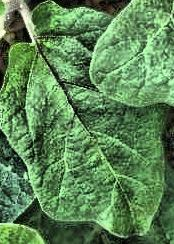HEALTHY: (1, 0, 174, 244)
